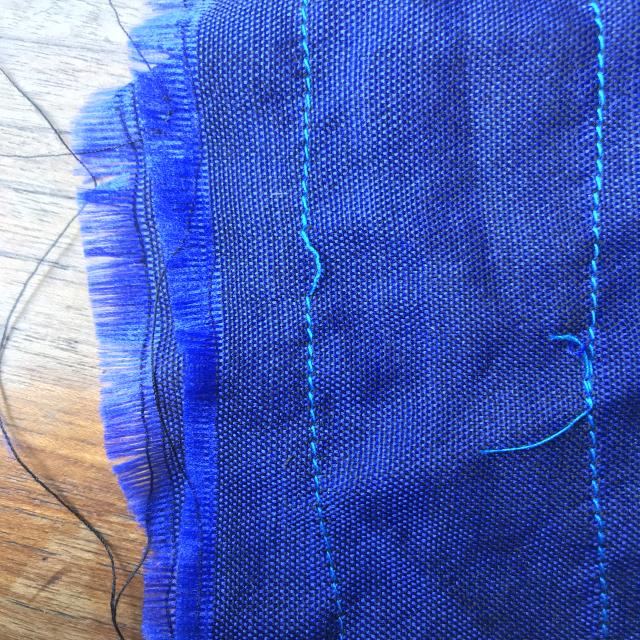skip: (265, 204, 352, 316)
